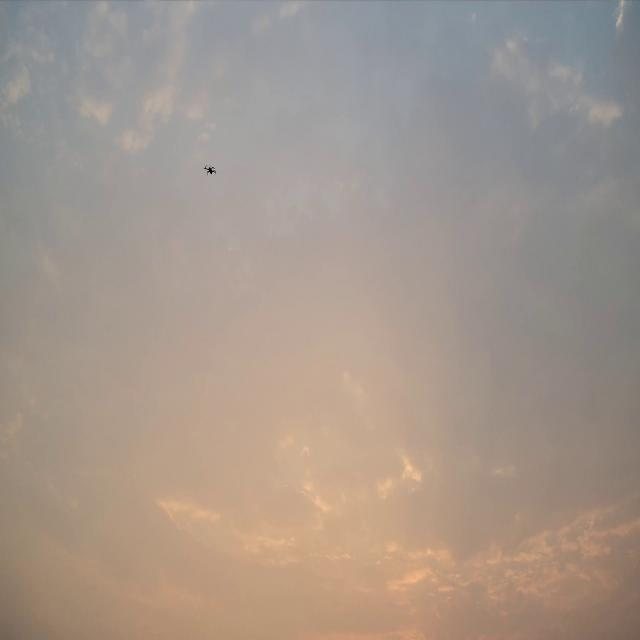UAV: (204, 164, 218, 175)
